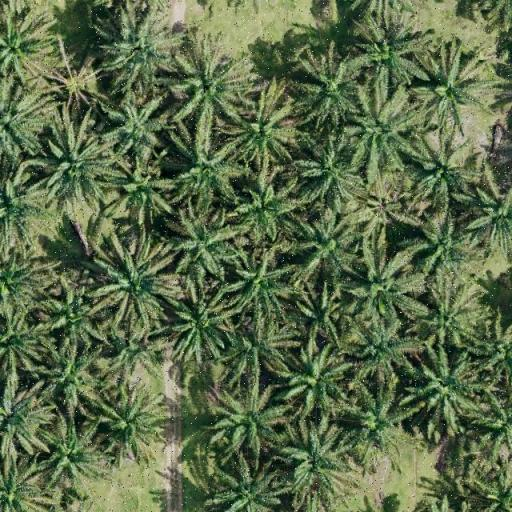Ganoderma: (365, 186, 405, 224), (54, 66, 93, 104)
